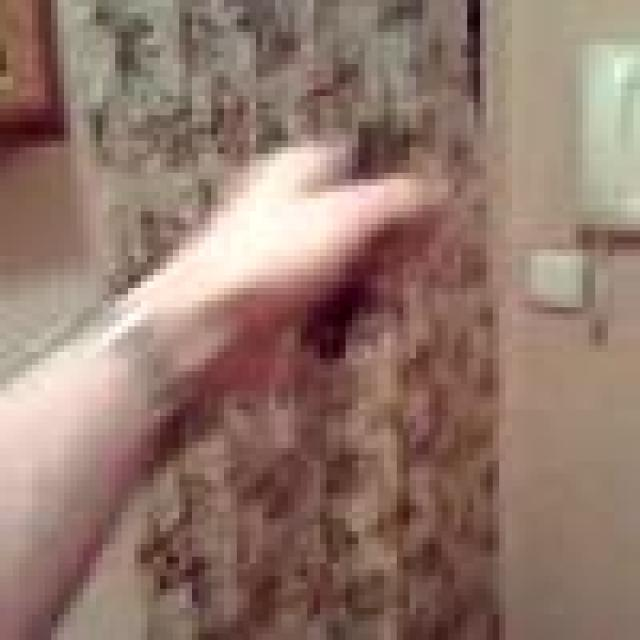knife: (357, 2, 413, 164)
